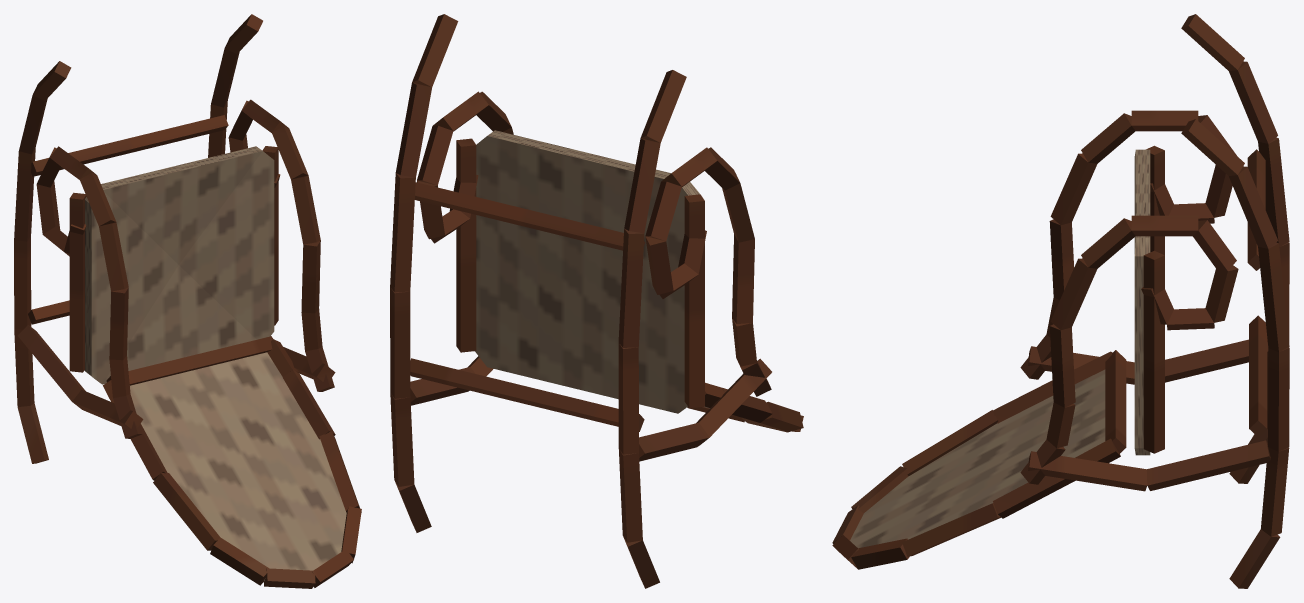
The model's file is pz_chair_seating_indoor_03_rocking_fidelity_r1.obj.
The picture shows the model from 3 angles, left to right: view 1: azimuth 30°, elevation 25°; view 2: azimuth 150°, elevation 25°; view 3: azimuth 270°, elevation 25°; orthographic projection. The views are drawn at different scales.
Visible parts, largest first — view 1: wood, seat, cane; view 2: wood, seat; view 3: wood, cane, seat.
Part boxes in pixels (bbox=[...]): wood: bbox=[14, 14, 361, 588]; seat: bbox=[84, 146, 274, 384]; cane: bbox=[130, 352, 346, 581]; wood: bbox=[390, 14, 803, 588]; seat: bbox=[475, 130, 699, 413]; wood: bbox=[832, 14, 1289, 588]; cane: bbox=[850, 369, 1105, 548]; seat: bbox=[1134, 149, 1150, 455].
Bounding box in the file's own units: 0.6378 × 1.26 × 1.07.
1 material, 1 textured.
